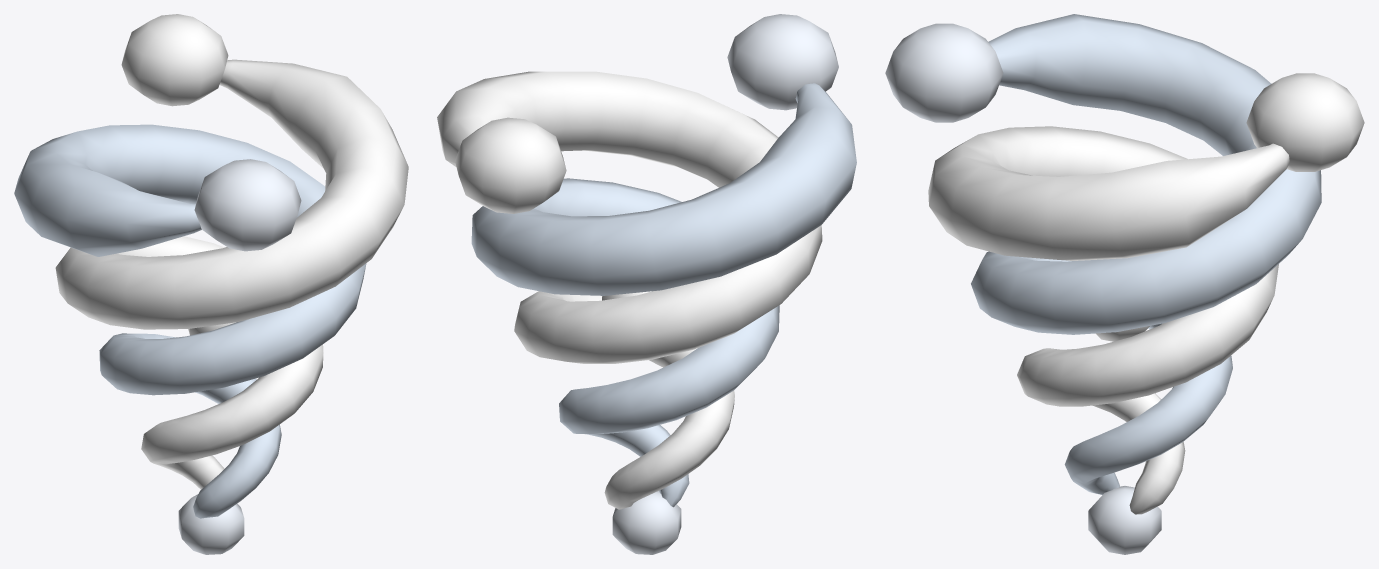
Rendered from pickup_air.glb.
The picture shows the model from 3 angles, left to right: view 1: azimuth 30°, elevation 25°; view 2: azimuth 150°, elevation 25°; view 3: azimuth 270°, elevation 25°; orthographic projection. The views are drawn at different scales.
Visible parts, largest first — view 1: pickup_air; view 2: pickup_air; view 3: pickup_air.
Part boxes in pixels (<box>): pickup_air: <box>14,14,408,554</box>; pickup_air: <box>437,14,856,554</box>; pickup_air: <box>885,14,1364,554</box>.
Bounding box in the file's own units: 3.62 × 4.5 × 3.94.
1 material, 1 textured.
